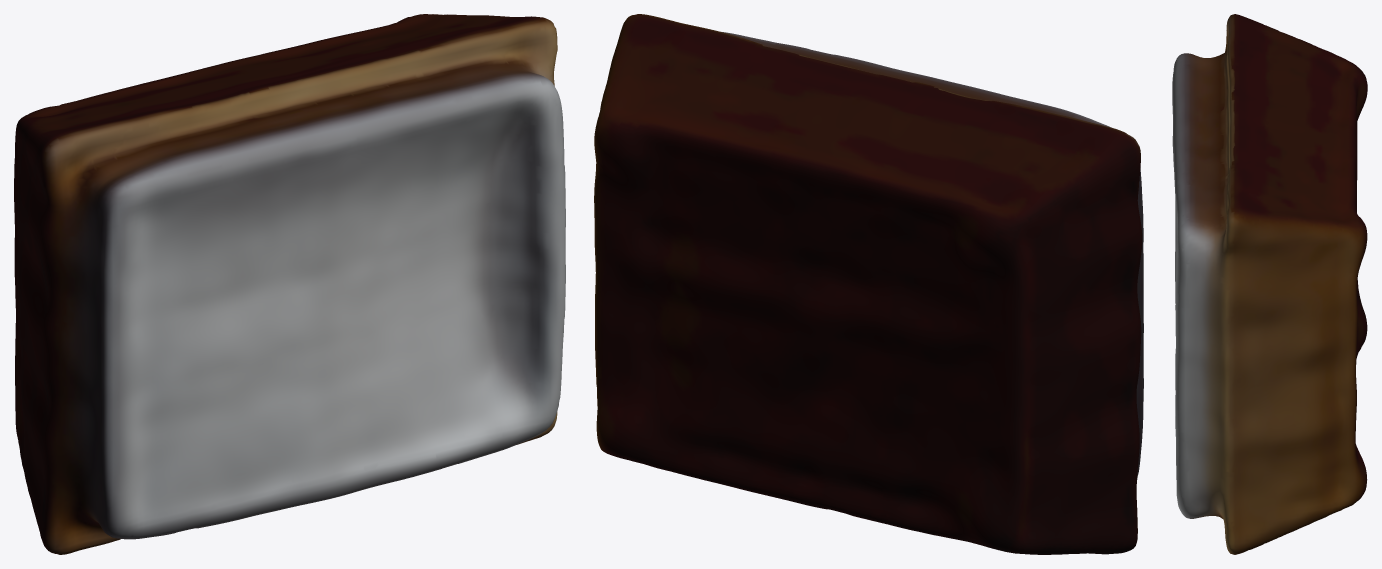
Rendered from soap.glb.
3 views of the same model, side by side, from view 1: azimuth 30°, elevation 25°; view 2: azimuth 150°, elevation 25°; view 3: azimuth 270°, elevation 25° (orthographic). The views are drawn at different scales.
Bounding box in the file's own units: 0.9994 × 0.7792 × 0.3969.
